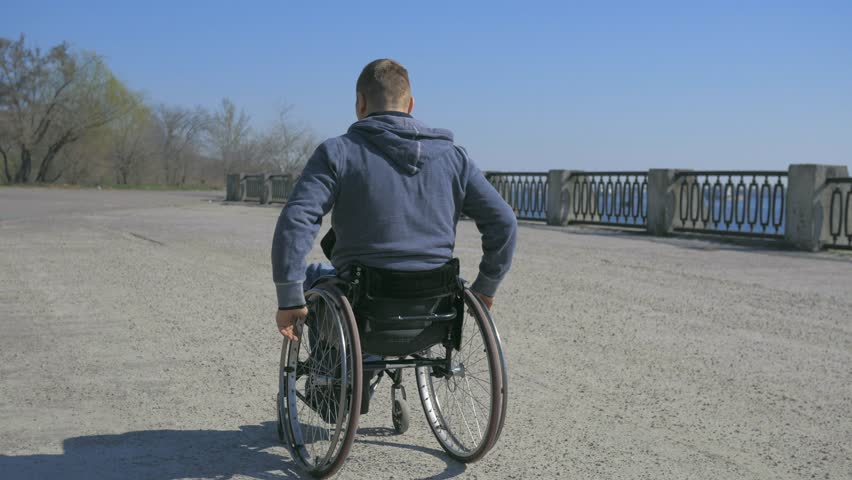wheelchair: (269, 59, 519, 478)
